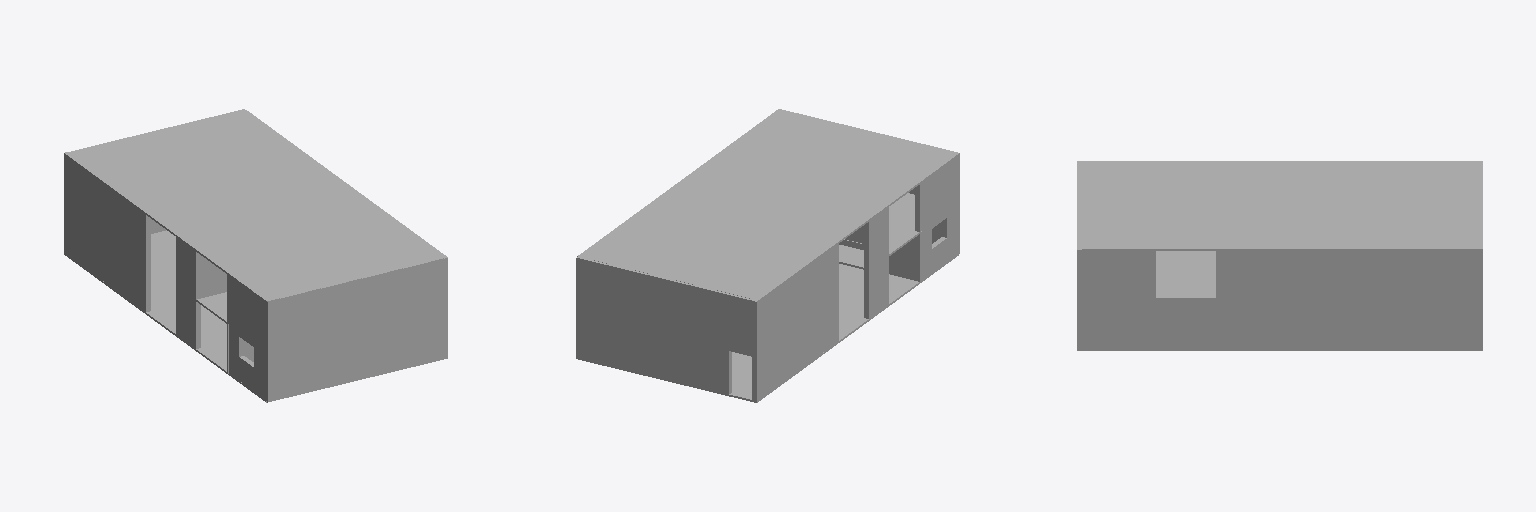
Rendered from aptofinalfinal.obj.
The picture shows the model from 3 angles: view 1: azimuth 30°, elevation 25°; view 2: azimuth 150°, elevation 25°; view 3: azimuth 270°, elevation 25°; orthographic projection.
Parts seen in each view (by area): view 1: Apartamento TechoYsuelo pCube103, Apartamento LoftParedes pCube8, Apartamento LoftParedes pCube56, Apartamento LoftParedes pCube104, Apartamento LoftParedes pCube61, Apartamento pCube50 TechoYsuelo, Apartamento LoftParedes pCube57, Apartamento LoftParedes pCube6, Apartamento LoftParedes pCube95, Apartamento LoftParedes pCube58, Apartamento LoftParedes pCube7, Apartamento LoftParedes pCube97; view 2: Apartamento TechoYsuelo pCube103, Apartamento LoftParedes pCube60, Apartamento pCube2 LoftParedes, Apartamento LoftParedes pCube104, Apartamento LoftParedes pCube61, Apartamento pCube50 TechoYsuelo, Apartamento LoftParedes pCube57, Apartamento TechoYsuelo pCube55, Apartamento LoftParedes pCube105, Apartamento LoftParedes pCube6, Apartamento LoftParedes pCube58, Apartamento LoftParedes pCube51 (+1 smaller); view 3: Apartamento TechoYsuelo pCube103, Apartamento LoftParedes pCube30, Apartamento LoftParedes pCube59, Apartamento LoftParedes pCube96, Apartamento TechoYsuelo pCube55, Apartamento pCube50 TechoYsuelo.
Boxes of the visible parts, x1,y1,x2,y2 form: Apartamento TechoYsuelo pCube103: [66, 110, 447, 301]; Apartamento LoftParedes pCube8: [266, 309, 447, 402]; Apartamento LoftParedes pCube56: [267, 258, 444, 351]; Apartamento LoftParedes pCube104: [64, 204, 150, 311]; Apartamento LoftParedes pCube61: [64, 152, 150, 263]; Apartamento pCube50 TechoYsuelo: [64, 230, 266, 402]; Apartamento LoftParedes pCube57: [227, 273, 266, 351]; Apartamento LoftParedes pCube6: [176, 286, 200, 349]; Apartamento LoftParedes pCube95: [196, 252, 226, 299]; Apartamento LoftParedes pCube58: [176, 235, 195, 299]; Apartamento LoftParedes pCube7: [229, 324, 243, 381]; Apartamento LoftParedes pCube97: [254, 344, 265, 401]; Apartamento TechoYsuelo pCube103: [577, 109, 958, 301]; Apartamento LoftParedes pCube60: [576, 257, 729, 345]; Apartamento pCube2 LoftParedes: [576, 308, 731, 395]; Apartamento LoftParedes pCube104: [752, 293, 838, 401]; Apartamento LoftParedes pCube61: [752, 244, 838, 352]; Apartamento pCube50 TechoYsuelo: [578, 255, 958, 402]; Apartamento LoftParedes pCube57: [915, 153, 959, 231]; Apartamento TechoYsuelo pCube55: [839, 193, 919, 269]; Apartamento LoftParedes pCube105: [729, 294, 752, 356]; Apartamento LoftParedes pCube6: [864, 256, 888, 319]; Apartamento LoftParedes pCube58: [864, 205, 888, 269]; Apartamento LoftParedes pCube51: [889, 231, 921, 282]; Apartamento TechoYsuelo pCube103: [1077, 161, 1479, 250]; Apartamento LoftParedes pCube30: [1082, 299, 1476, 348]; Apartamento LoftParedes pCube59: [1216, 251, 1476, 299]; Apartamento LoftParedes pCube96: [1082, 251, 1155, 299]; Apartamento TechoYsuelo pCube55: [1156, 251, 1215, 298]; Apartamento pCube50 TechoYsuelo: [1082, 349, 1482, 350].
Size of the model in its own units: 11.34 by 6.06 by 21.99.